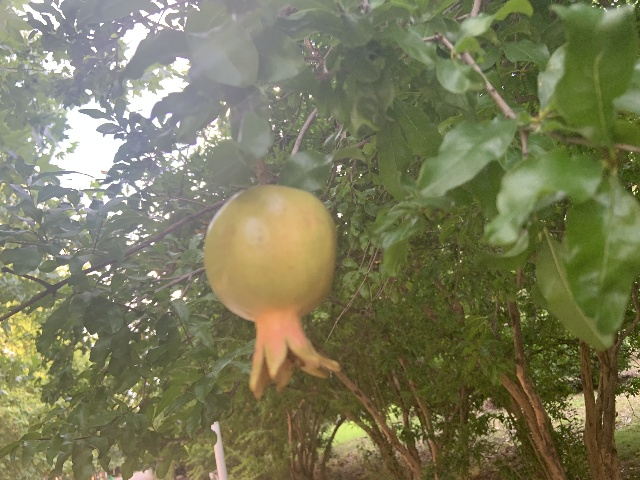mid-growth: (202, 185, 342, 399)
